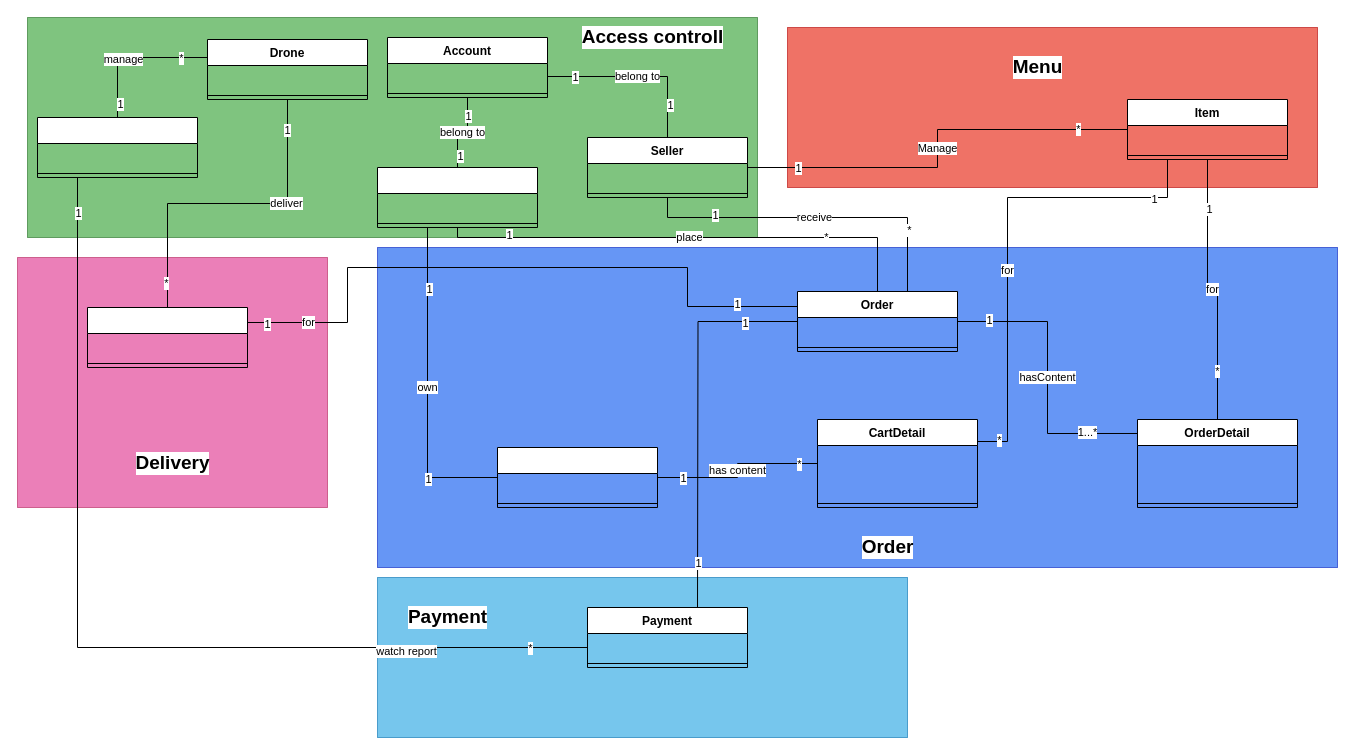
This 1355x755 diagram has some shape labels left out. Each missing label, with the centre of its shape:
"Admin" belongs at pixel 117 147.
"Cart" belongs at pixel 577 477.
"DeliveryDetail" belongs at pixel 167 337.
"User" belongs at pixel 457 197.
